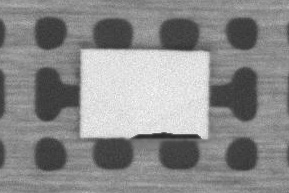DIE_BROKEN: (127, 131, 204, 140)
